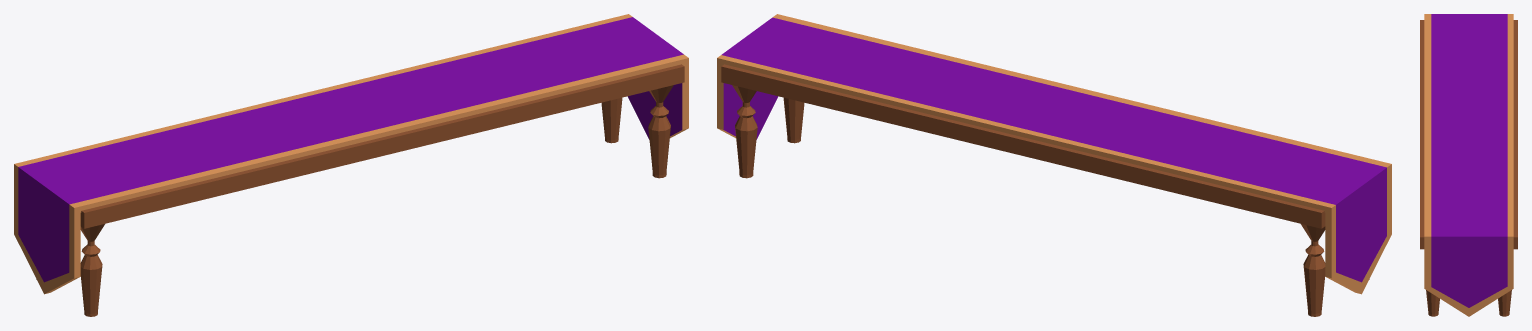
File: Long_Table.fbx
3 renders of one model, left to right at view 1: azimuth 30°, elevation 25°; view 2: azimuth 150°, elevation 25°; view 3: azimuth 270°, elevation 25°, orthographic. The views are drawn at different scales.
Visible parts, largest first — view 1: Long_Table; view 2: Long_Table; view 3: Long_Table.
Part boxes in pixels (x1=…): Long_Table: x1=14, y1=14, x2=688, y2=316; Long_Table: x1=717, y1=14, x2=1391, y2=316; Long_Table: x1=1420, y1=14, x2=1517, y2=316.
Size of the model in its own units: 534 by 96.5 by 99.41.
